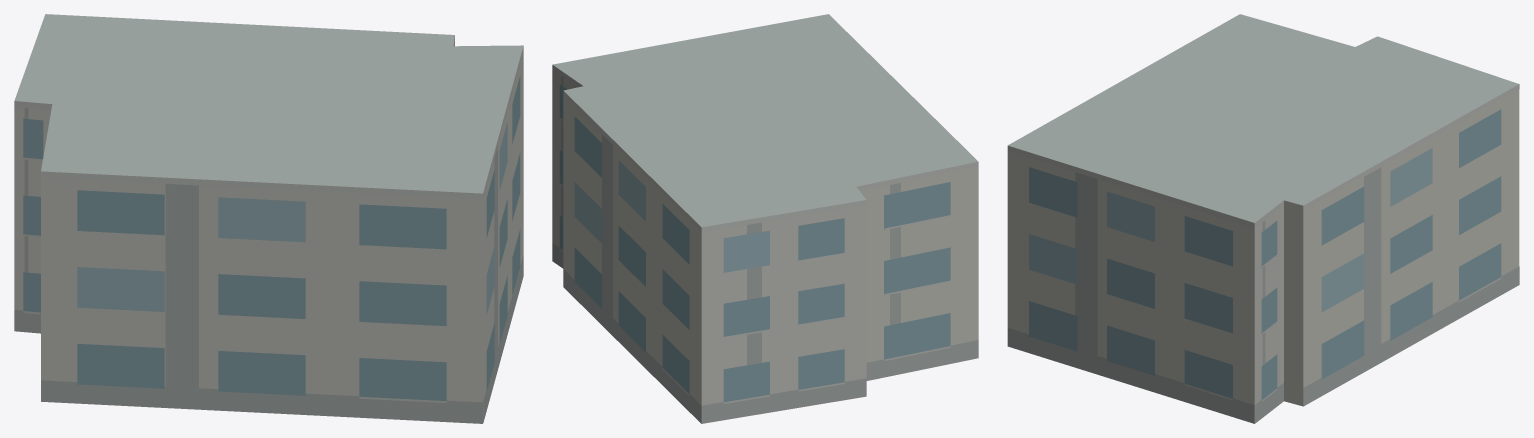
The model's file is survey-upis-32737634.glb.
3 renders of one model, left to right at view 1: azimuth 30°, elevation 25°; view 2: azimuth 150°, elevation 25°; view 3: azimuth 270°, elevation 25°, orthographic. The views are drawn at different scales.
Visible parts, largest first — view 1: survey-upis-32737634.tmp; view 2: survey-upis-32737634.tmp; view 3: survey-upis-32737634.tmp.
Part boxes in pixels (bbox=[...]): survey-upis-32737634.tmp: bbox=[14, 14, 523, 423]; survey-upis-32737634.tmp: bbox=[552, 14, 978, 423]; survey-upis-32737634.tmp: bbox=[1007, 14, 1519, 423].
Bounding box in the file's own units: 20.43 × 9.15 × 21.14.
